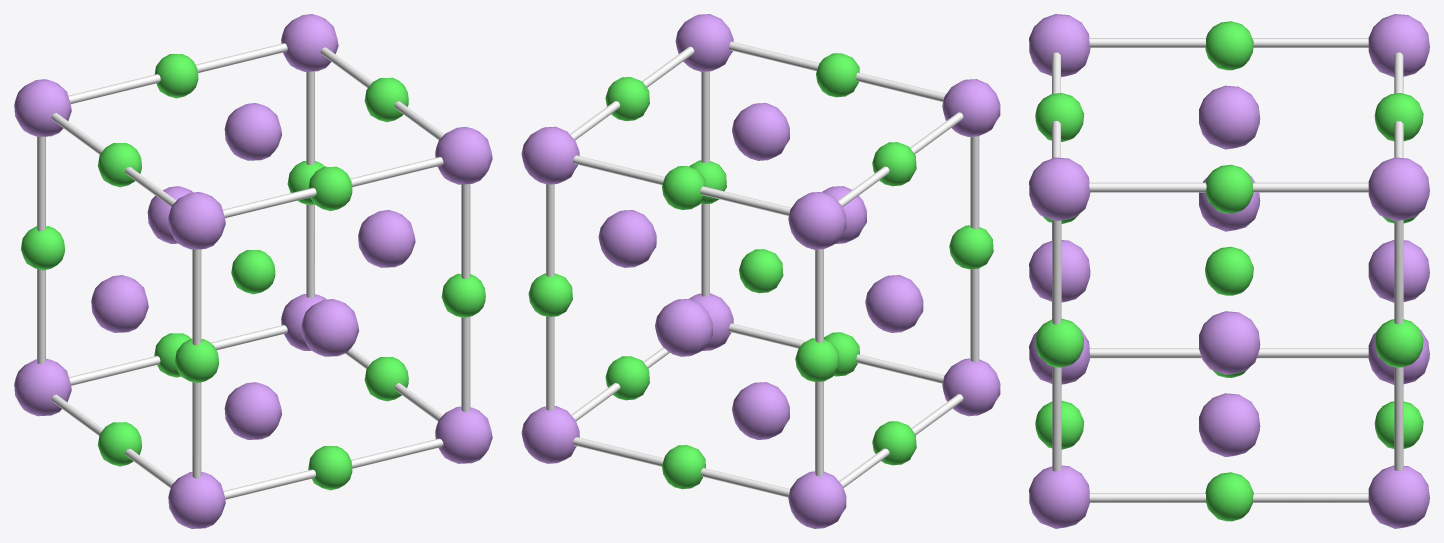
File: halite.fbx
The picture shows the model from 3 angles, left to right: view 1: azimuth 30°, elevation 25°; view 2: azimuth 150°, elevation 25°; view 3: azimuth 270°, elevation 25°; orthographic projection. The views are drawn at different scales.
Visible parts, largest first — view 1: Na, Cl, limite..002; view 2: Na, Cl, limite..002; view 3: Na, Cl, limite..002.
Boxes of the visible parts, x1,y1,x2,y2 form: Na: (14, 14, 492, 528); Cl: (21, 54, 485, 490); limite..002: (37, 43, 470, 499); Na: (521, 14, 1000, 528); Cl: (528, 53, 993, 489); limite..002: (546, 41, 979, 497); Na: (1029, 14, 1429, 528); Cl: (1035, 21, 1423, 521); limite..002: (1052, 38, 1403, 502).
Bounding box in the file's own units: 18.46 × 18.52 × 18.36.
